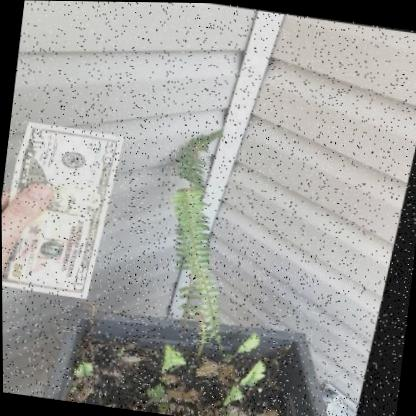dollar_front: (1, 119, 129, 299)
